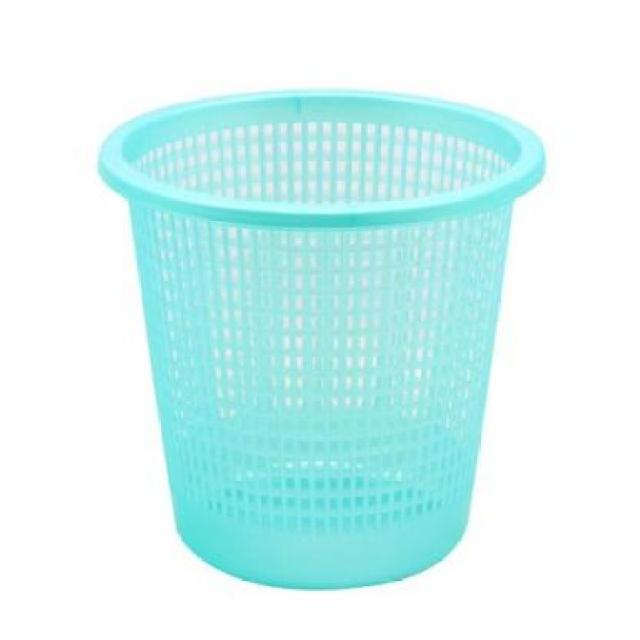dustbin: (92, 81, 551, 597)
